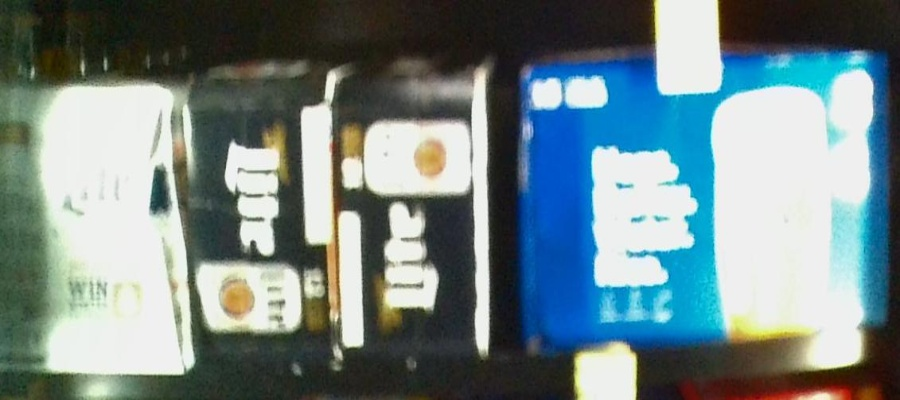bottle: (521, 66, 893, 328), (1, 86, 189, 374), (339, 71, 497, 358), (187, 67, 333, 351)
